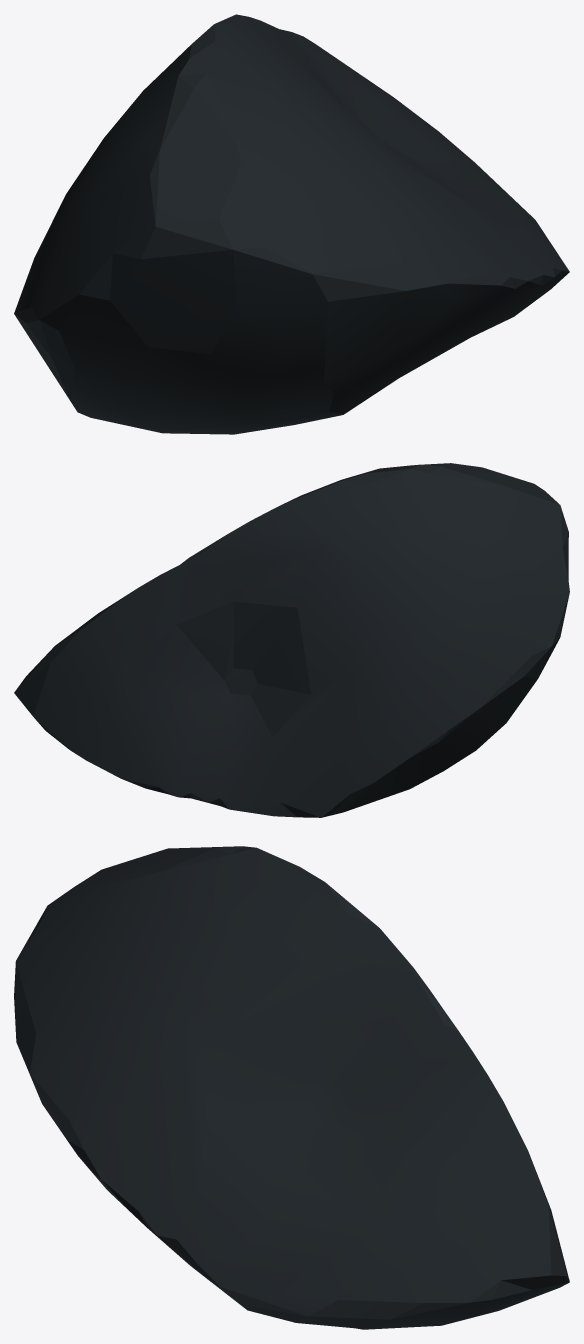
File: Asteroid_m_21.FBX
3 renders of one model, top to bottom at view 1: azimuth 30°, elevation 25°; view 2: azimuth 150°, elevation 25°; view 3: azimuth 270°, elevation 25°, orthographic. The views are drawn at different scales.
Parts seen in each view (by area): view 1: Asteroid_m_21; view 2: Asteroid_m_21; view 3: Asteroid_m_21.
Part boxes in pixels (x1=…): Asteroid_m_21: x1=14, y1=14, x2=569, y2=434; Asteroid_m_21: x1=14, y1=463, x2=569, y2=817; Asteroid_m_21: x1=14, y1=846, x2=569, y2=1329.
Size of the model in its own units: 1258 by 827 by 1132.
